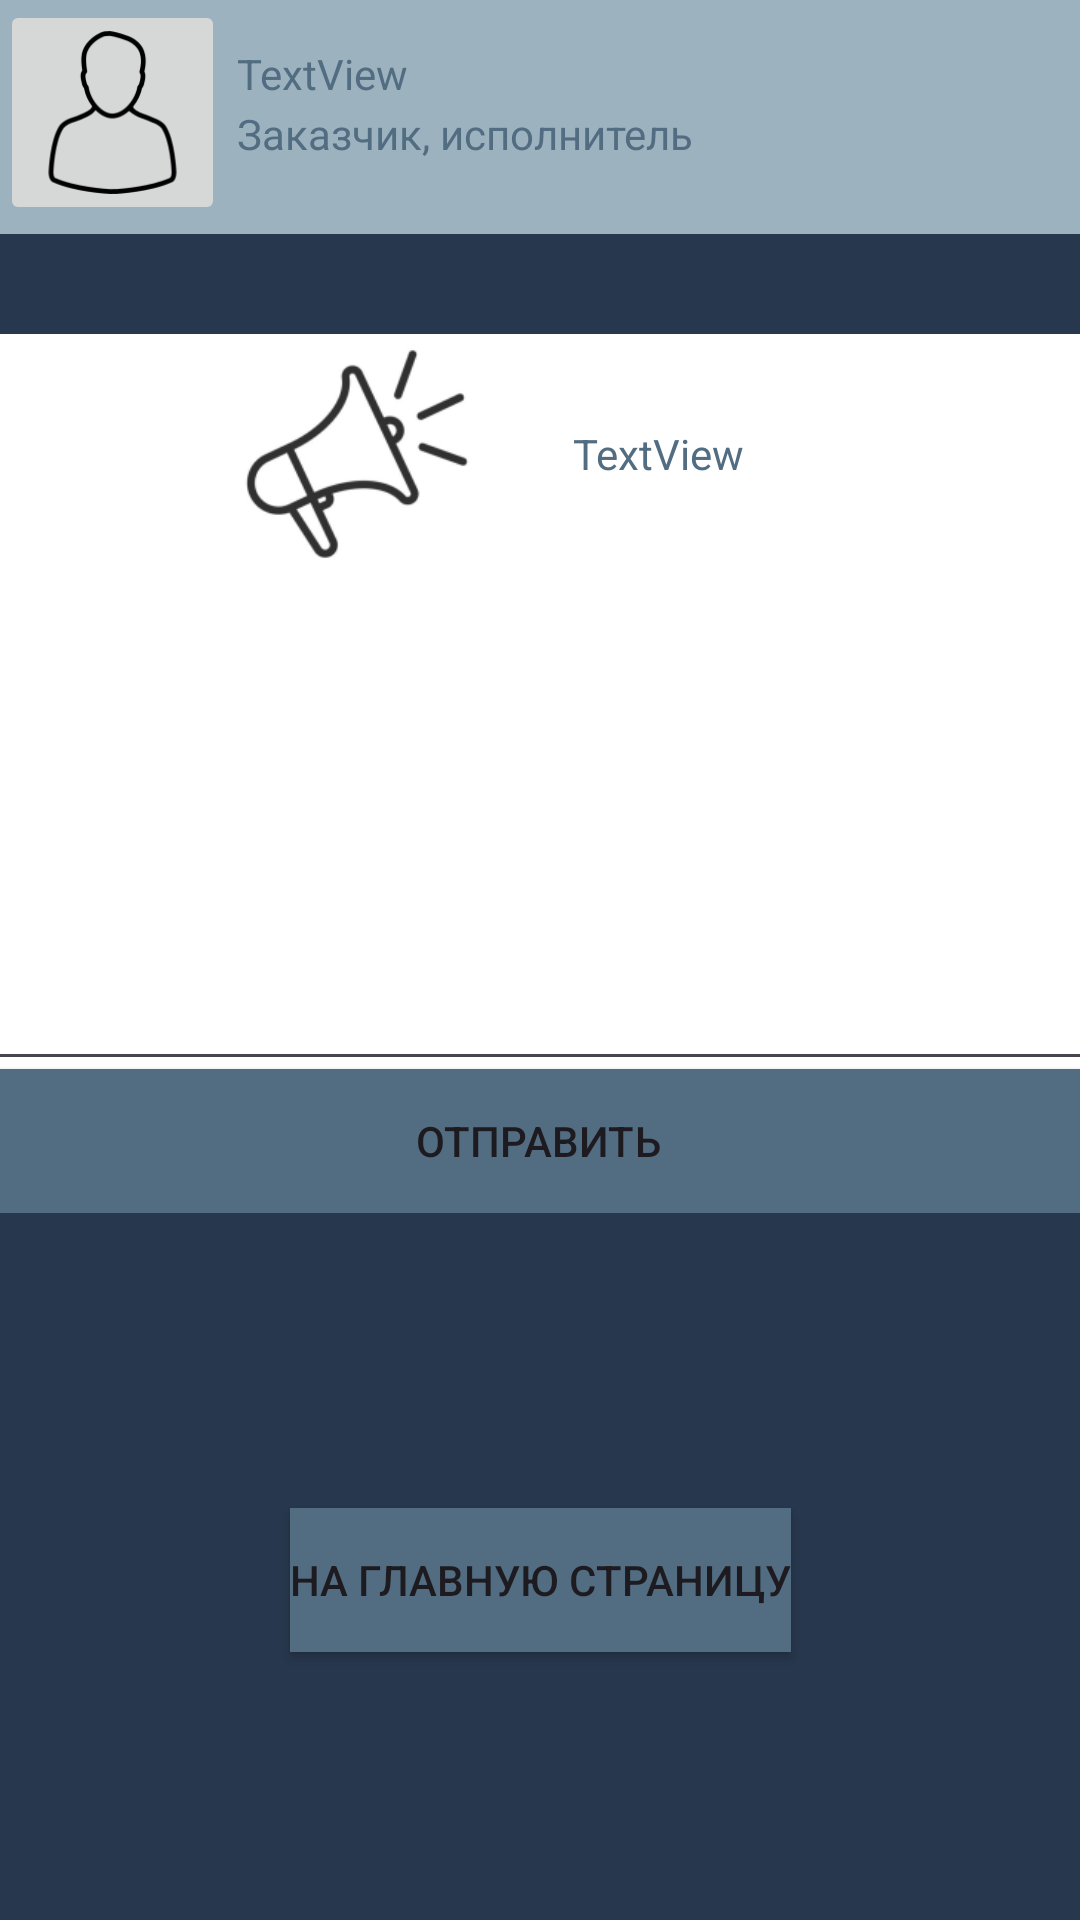

Icon bounding boxes for this 1080px×1920px phone screenshot, format (x1, y1, x2, y2):
avatars: (12, 18, 213, 207)
channel: (246, 350, 468, 558)
